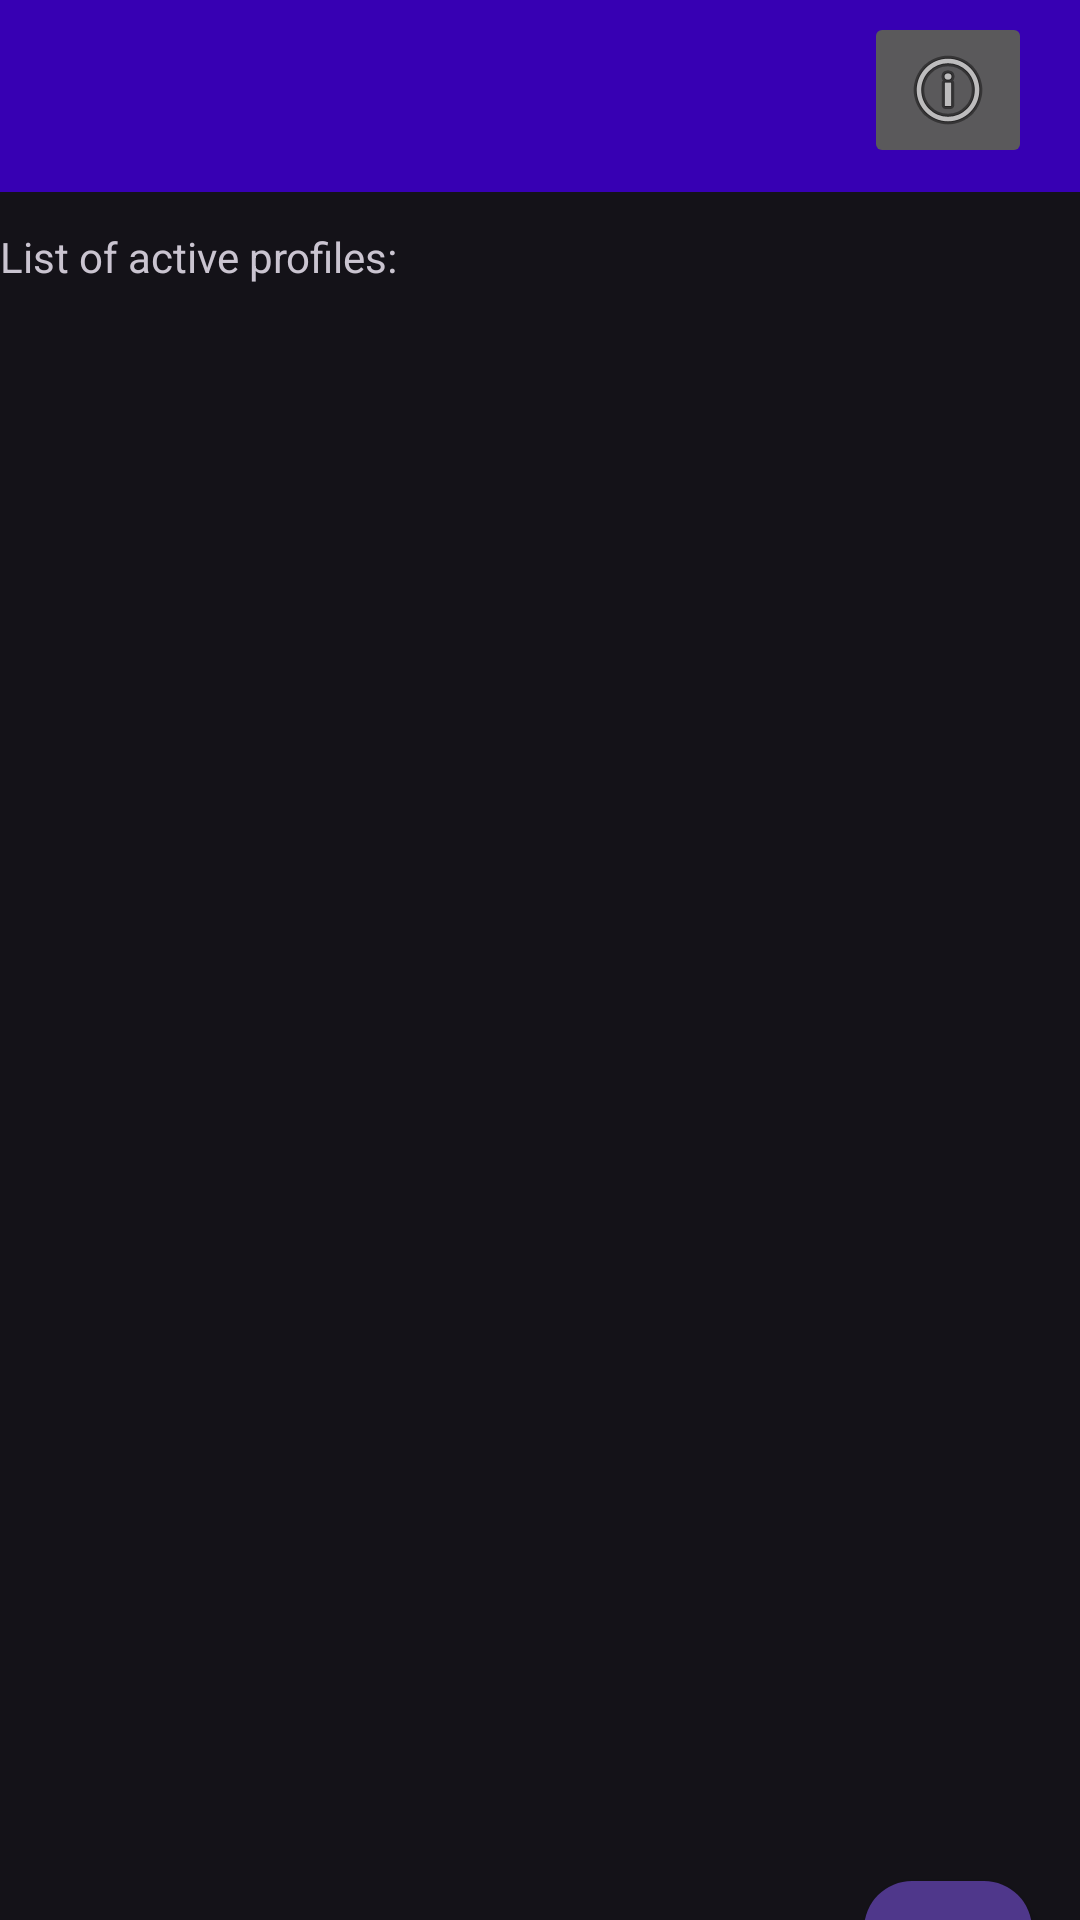

Icon click points for this 1080 × 1920 phone screenshot, format (x,y):
info details: (948,90)
